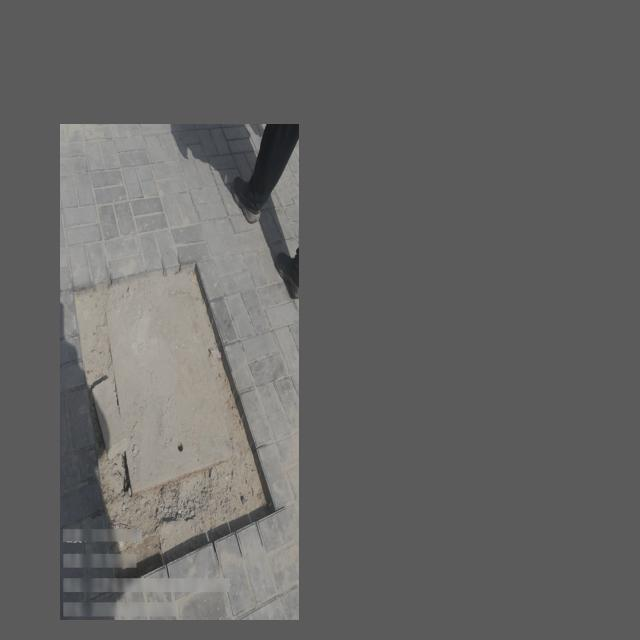circle: (72, 274, 272, 542)
